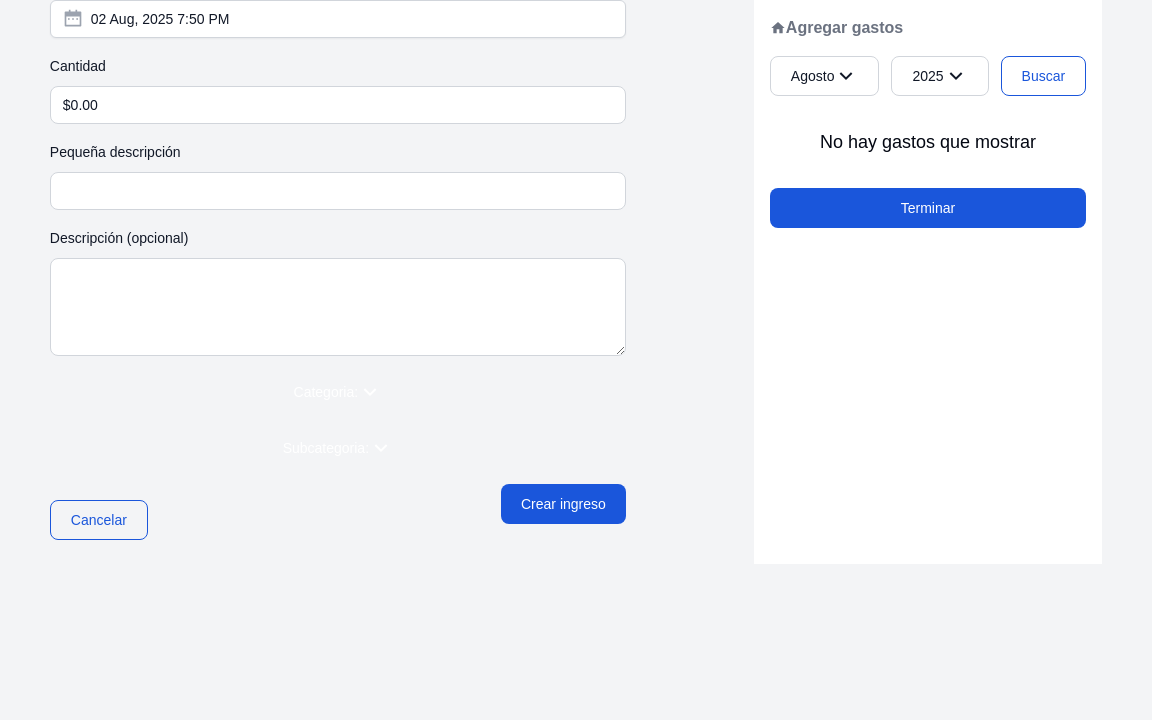
Scenario: IncomeTemplate › Form validations › Given a user filling the short description and then clicking create expense, show validation error for category to be required
Type "Test expense" into the field labelled "Pequeña descripción" at point(338, 191), box [50, 172, 626, 210]
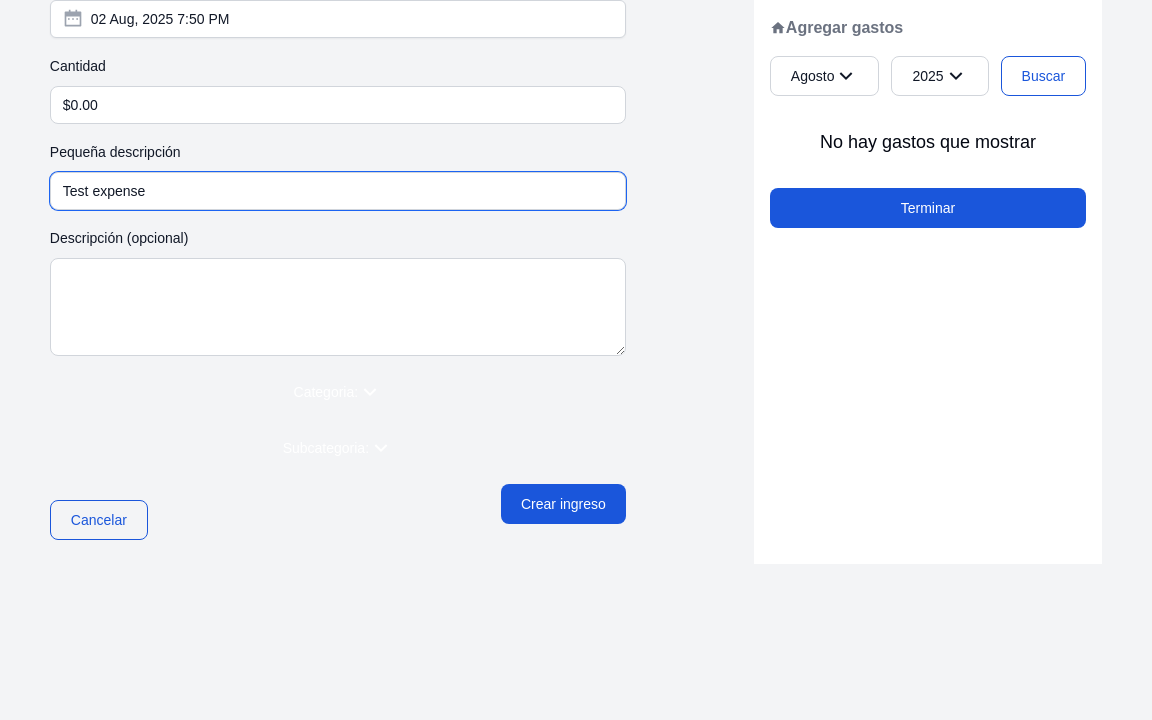
Click the button "Crear ingreso" at point(563, 504), box [501, 484, 626, 524]
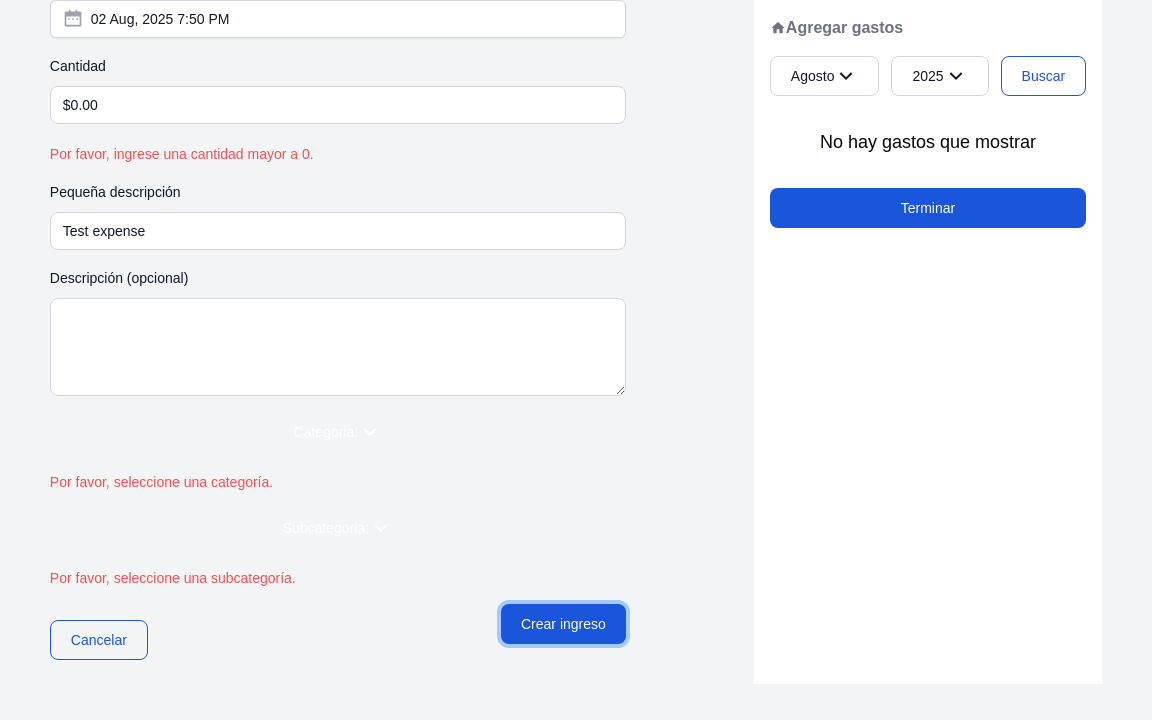
Result: the text "Por favor, seleccione una categoría." is shown at [50, 474, 273, 490]
